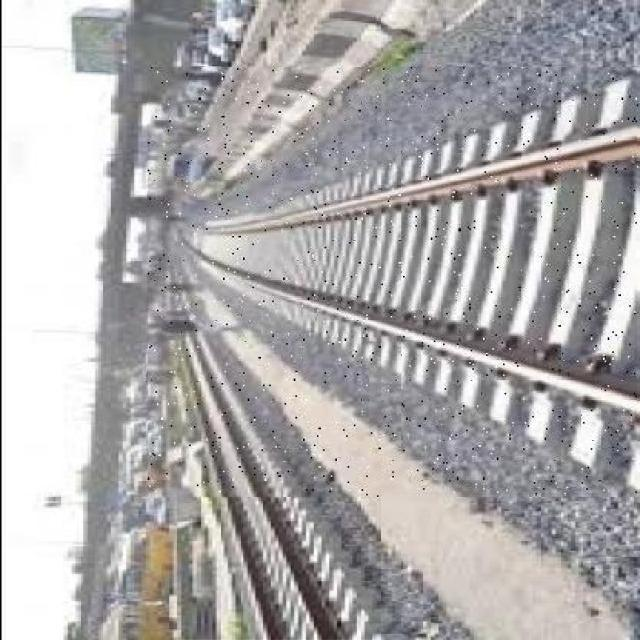rail: (148, 69, 638, 496), (178, 337, 382, 640)
